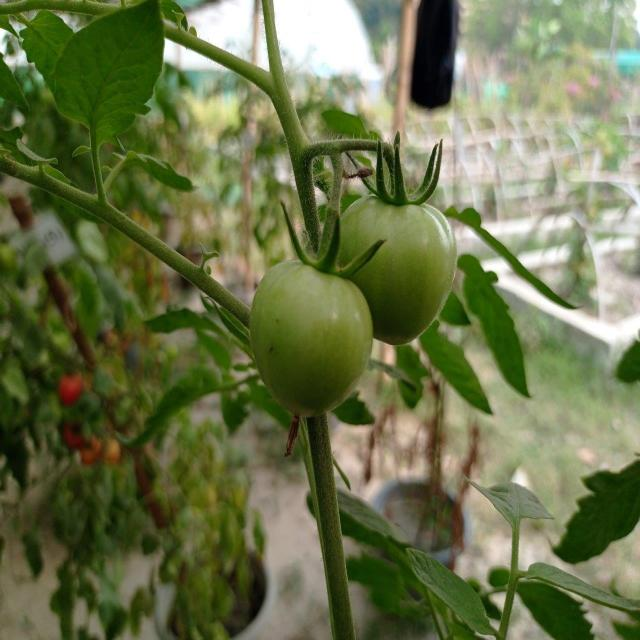Unripe: (331, 178, 459, 347), (247, 245, 373, 413)
